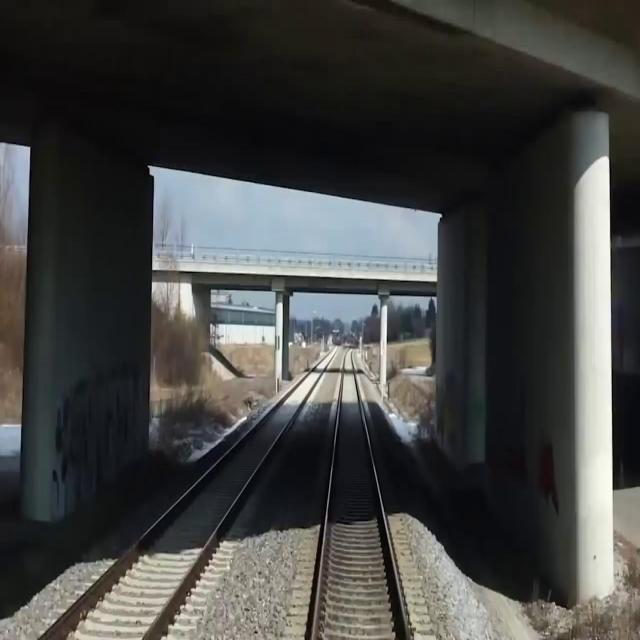rail-track: (45, 350, 334, 639), (316, 351, 405, 639)
